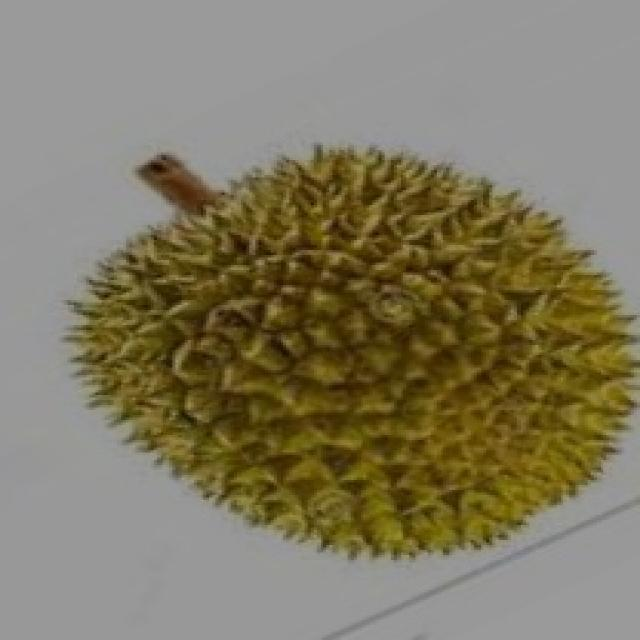fruit: (16, 173, 382, 605), (280, 235, 640, 620)
